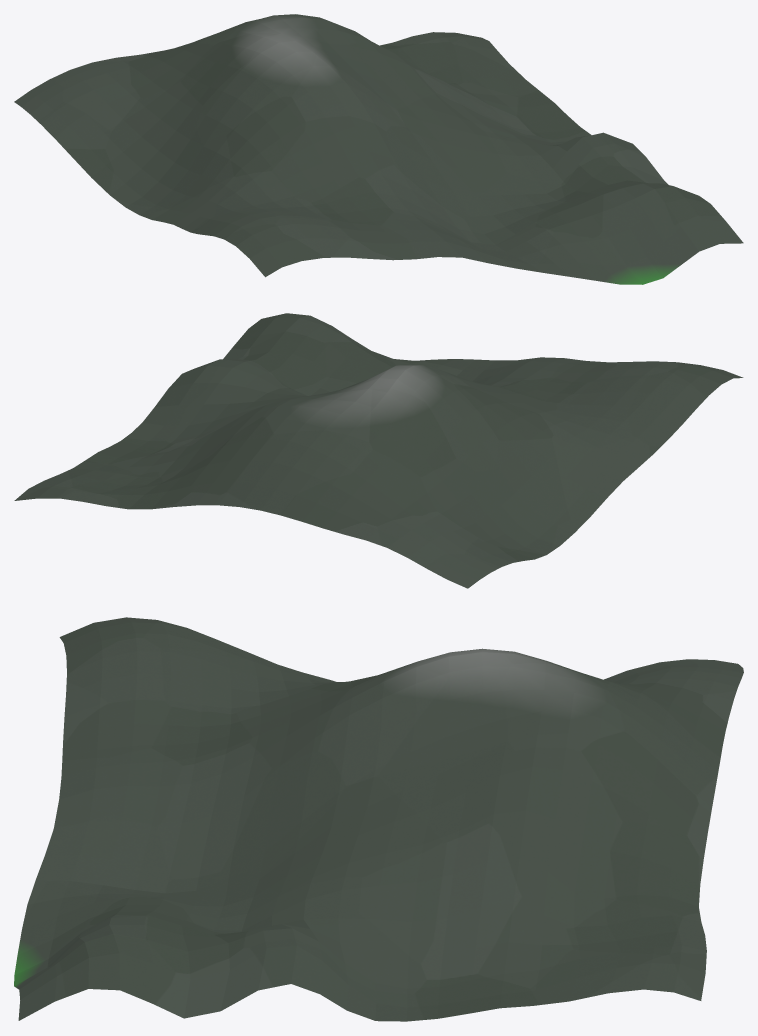
Rendered from Hill_2.glb.
The picture shows the model from 3 angles, top to bottom: view 1: azimuth 30°, elevation 25°; view 2: azimuth 150°, elevation 25°; view 3: azimuth 270°, elevation 25°; orthographic projection. The views are drawn at different scales.
Parts seen in each view (by area): view 1: Hill_2; view 2: Hill_2; view 3: Hill_2.
Part boxes in pixels (x1,y1,x2,y2): Hill_2: (14,14,743,284); Hill_2: (14,313,743,588); Hill_2: (14,617,743,1021).
Size of the model in its own units: 14.85 by 4.76 by 15.36.
1 material, 1 textured.
